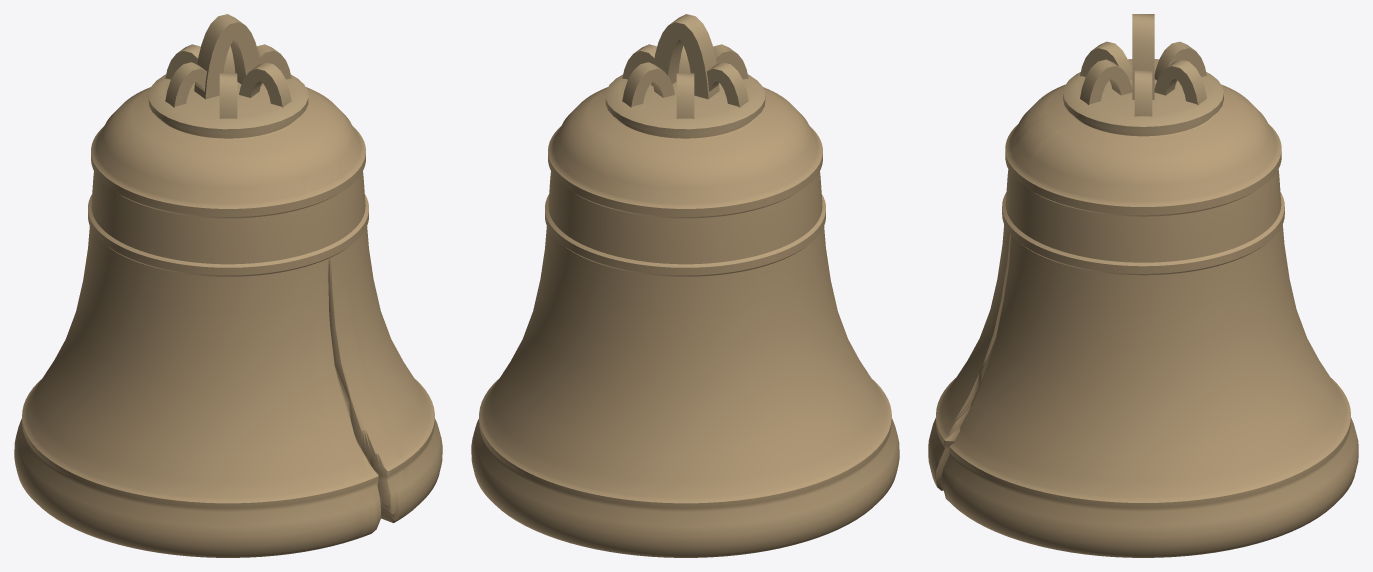
File: bell_great_cracked.glb
The picture shows the model from 3 angles, left to right: view 1: azimuth 30°, elevation 25°; view 2: azimuth 150°, elevation 25°; view 3: azimuth 270°, elevation 25°; orthographic projection.
Visible parts, largest first — view 1: bell_great_cracked_body, bell_great_cracked_crown; view 2: bell_great_cracked_body, bell_great_cracked_crown; view 3: bell_great_cracked_body, bell_great_cracked_crown.
Part boxes in pixels (box(x1,y1,x2,y2)): bell_great_cracked_body: box(14, 87, 442, 557); bell_great_cracked_crown: box(148, 14, 308, 135); bell_great_cracked_body: box(471, 87, 899, 557); bell_great_cracked_crown: box(605, 14, 765, 135); bell_great_cracked_body: box(928, 84, 1358, 557); bell_great_cracked_crown: box(1063, 14, 1223, 132).
Bounding box in the file's own units: 1.92 × 2.24 × 1.92.
